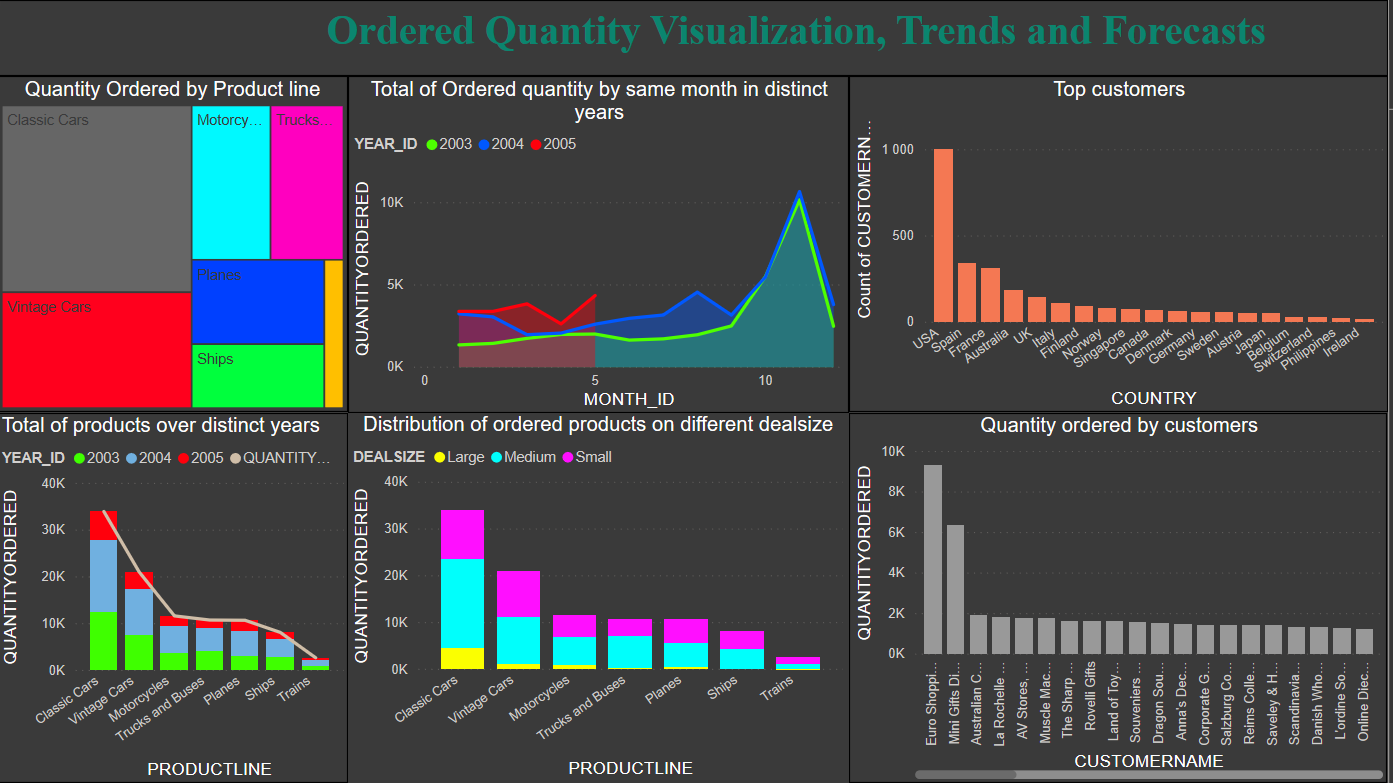

This screenshot's page, from the dashboard's own definition file:
{"tool":"powerbi","page":{"name":"P2","canvas":[1280,720],"ordinal":1},"visuals":[{"type":"areaChart","title":"Total of Ordered quantity by same month in distinct years","fields":{"Category":["sales_data_sample (1).MONTH_ID"],"Y":["Sum(sales_data_sample (1).QUANTITYORDERED)"],"Series":["sales_data_sample (1).YEAR_ID"]},"box":[324.5,70.1,460.6,309.3],"z":0},{"type":"textbox","box":[0,0,1280,69.7],"z":1000},{"type":"treemap","title":"Quantity Ordered by Product line","fields":{"Group":["S2.PRODUCTLINE"],"Values":["Sum(S2.QUANTITYORDERED)"]},"box":[0,69.7,324.1,309.1],"z":2000},{"type":"lineStackedColumnComboChart","title":"Total of products over distinct years","fields":{"Category":["S2.PRODUCTLINE"],"Series":["S2.YEAR_ID"],"Y":["Sum(S2.QUANTITYORDERED)"],"Y2":["Sum(S2.QUANTITYORDERED)"]},"box":[0,379.5,324.5,341],"z":3000},{"type":"lineStackedColumnComboChart","title":"Distribution of ordered products on different dealsize","fields":{"Category":["S2.PRODUCTLINE"],"Y":["Sum(S2.QUANTITYORDERED)"],"Series":["S2.DEALSIZE"]},"box":[324.5,379.5,460.6,341],"z":4000},{"type":"columnChart","title":"Quantity ordered by customers","fields":{"Category":["S2.CUSTOMERNAME"],"Y":["Sum(S2.QUANTITYORDERED)"]},"box":[785,379.5,495,341],"z":4001},{"type":"columnChart","title":"Top customers","fields":{"Category":["S2.COUNTRY"],"Y":["CountNonNull(S2.CUSTOMERNAME)"]},"box":[785,70,495,309],"z":4002}]}

Visuals, with their boxes in screenshot pixels (x1, y1, x2, y2), scaled from the page's 1280x720 canvas onto the 1393x783 screenshot:
"Total of Ordered quantity by same month in distinct years" areaChart: (353, 76, 854, 413)
textbox: (0, 0, 1392, 76)
"Quantity Ordered by Product line" treemap: (0, 76, 353, 412)
"Total of products over distinct years" lineStackedColumnComboChart: (0, 413, 353, 782)
"Distribution of ordered products on different dealsize" lineStackedColumnComboChart: (353, 413, 854, 782)
"Quantity ordered by customers" columnChart: (854, 413, 1392, 782)
"Top customers" columnChart: (854, 76, 1392, 412)
